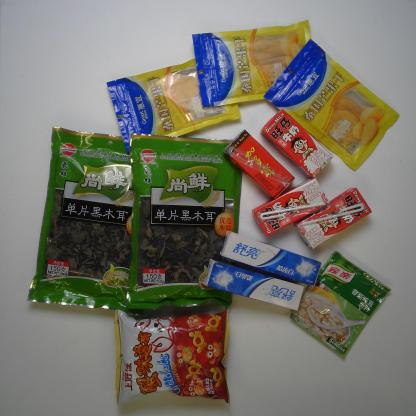Dried Food: (25, 125, 170, 319), (121, 132, 251, 310)
Dried Fruit: (260, 35, 402, 176), (104, 52, 244, 164), (187, 16, 316, 108)
Drink: (220, 127, 294, 203)
Milk: (290, 184, 376, 254), (260, 106, 332, 182), (250, 175, 331, 240)
Personal Hygiene: (218, 228, 324, 288), (200, 257, 306, 314)
Puffed Food: (110, 302, 237, 412)
Seasoner: (288, 249, 393, 360)
